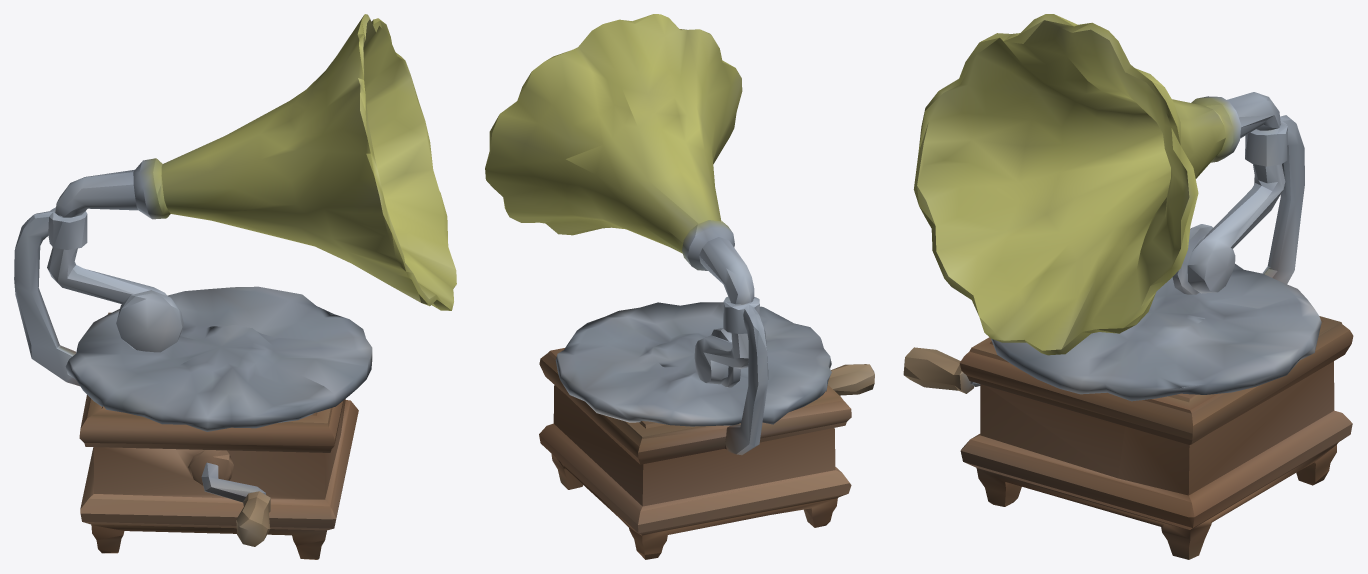
File: Gramophone01.fbx
The picture shows the model from 3 angles, left to right: view 1: azimuth 30°, elevation 25°; view 2: azimuth 150°, elevation 25°; view 3: azimuth 270°, elevation 25°; orthographic projection. The views are drawn at different scales.
Visible parts, largest first — view 1: Record; view 2: Record; view 3: Record.
Part boxes in pixels (x1,y1,x2,y2): Record: [14, 14, 456, 559]; Record: [485, 14, 874, 559]; Record: [903, 14, 1353, 559].
Bounding box in the file's own units: 83.24 × 103 × 79.1.
